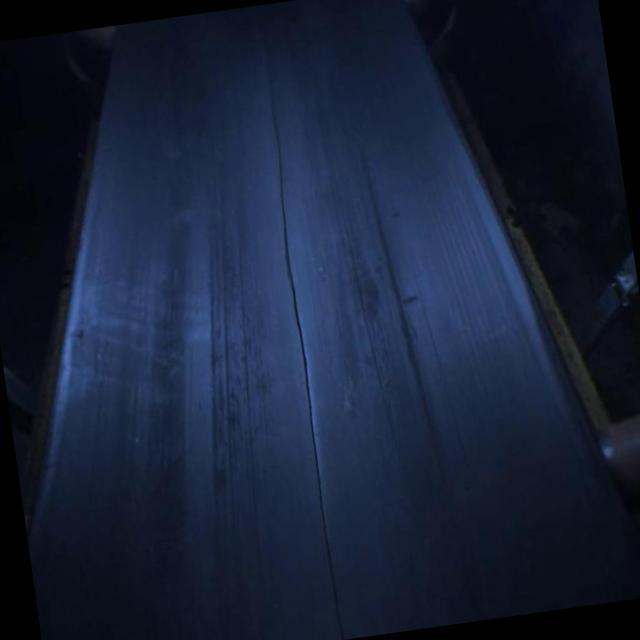Tear: (252, 54, 348, 640)
